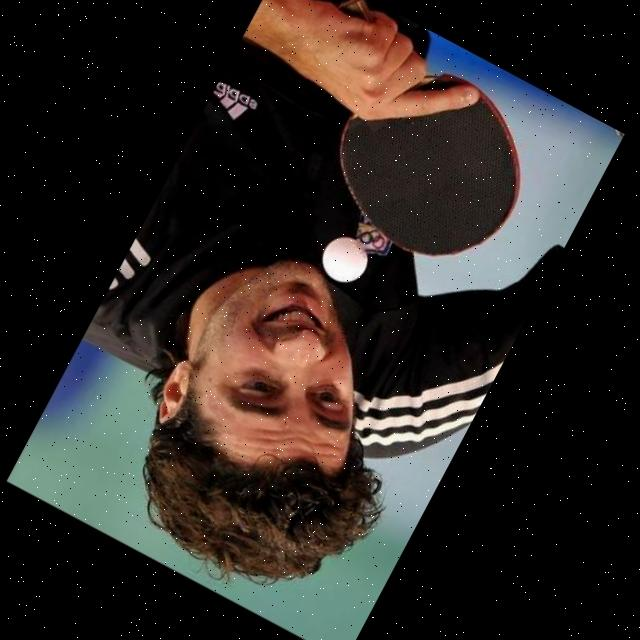ping-pong-ball: (313, 226, 377, 291)
